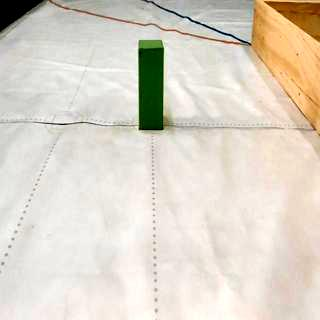greenbox: (138, 37, 164, 132)
